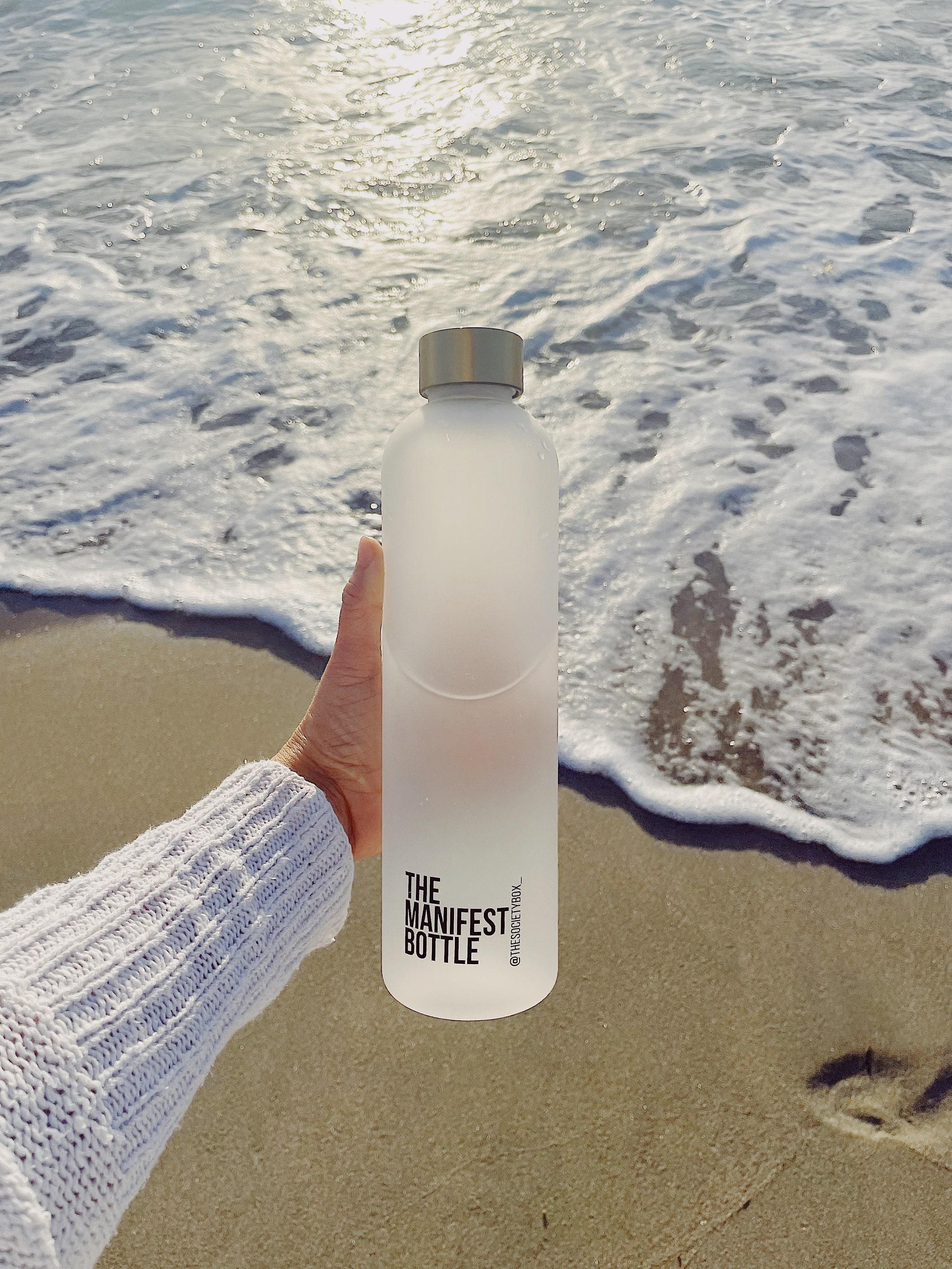gym bottle: (374, 322, 569, 1022)
